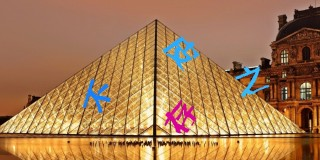不: (82, 80, 111, 114)
之: (235, 66, 269, 97)
存: (164, 99, 197, 133)
皮: (162, 36, 199, 69)
